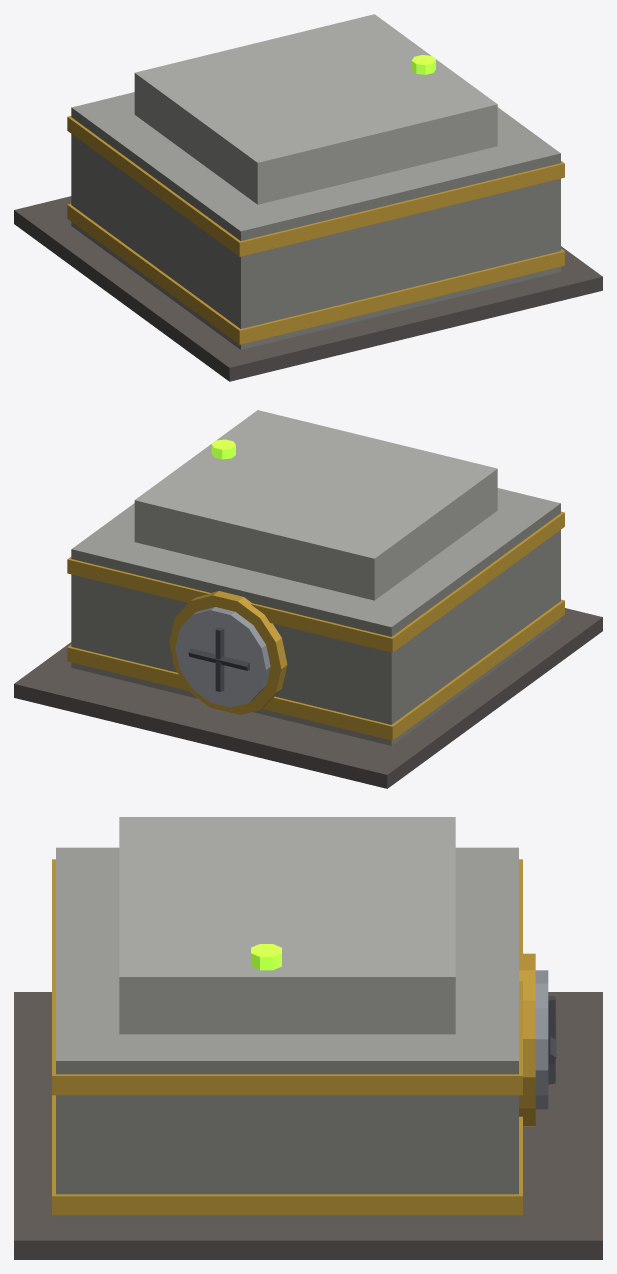
The model's file is vault.glb.
3 views of the same model, one above another, from view 1: azimuth 30°, elevation 25°; view 2: azimuth 150°, elevation 25°; view 3: azimuth 270°, elevation 25° (orthographic). The views are drawn at different scales.
Parts seen in each view (by area): view 1: vault; view 2: vault; view 3: vault.
Boxes of the visible parts, <box> form: vault: <box>14,14,602,381</box>; vault: <box>14,410,602,788</box>; vault: <box>14,817,602,1259</box>.
Size of the model in its own units: 2.8 by 1.32 by 2.8.
